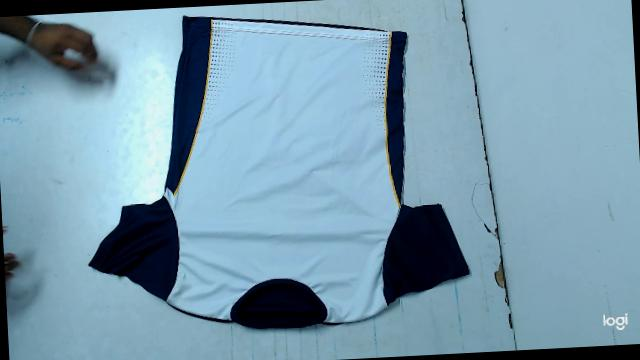new-garment: (90, 16, 468, 327)
